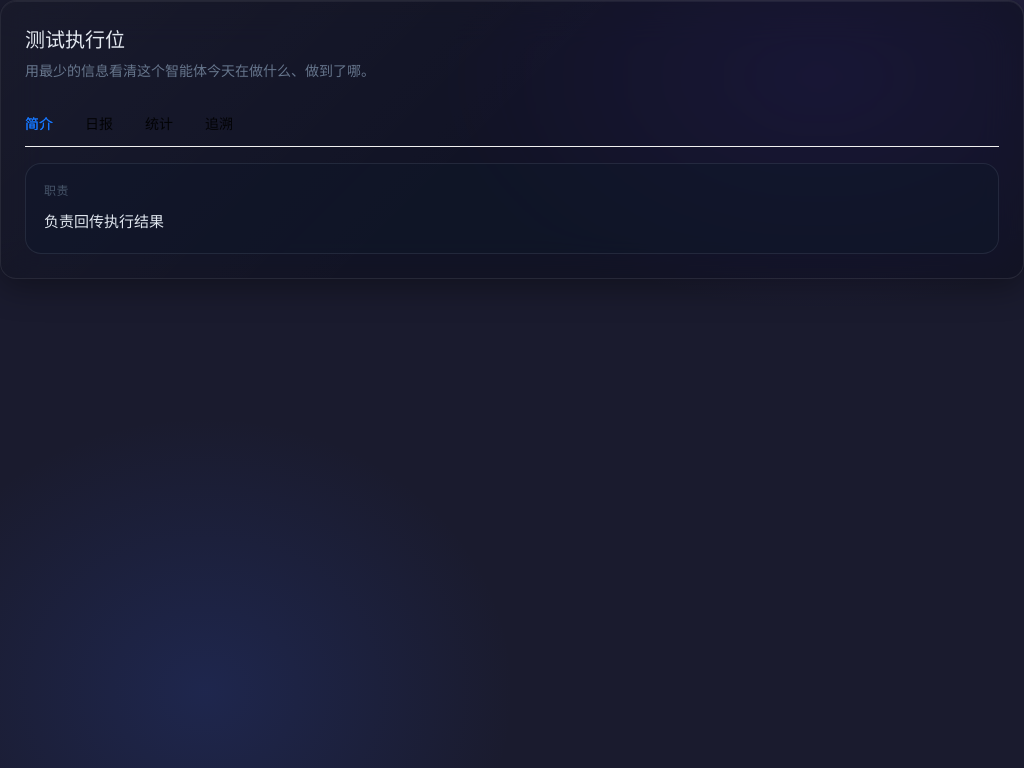
Test: AgentWorkPanel › renders trace lines inside the dedicated trace tab
The image size is (1024, 768).
Click the tab "追溯" at [219, 124], box x1=205 y1=113 x2=233 y2=135
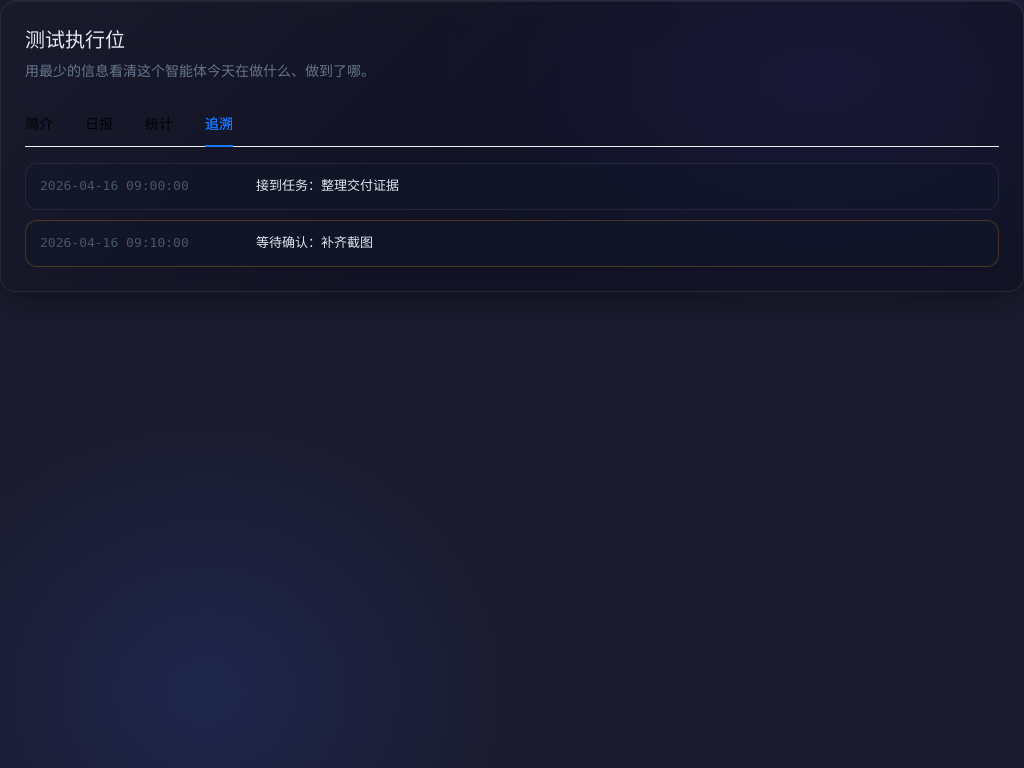
Check: the text "2026-04-16 09:00:00" is shown, box x1=40 y1=178 x2=189 y2=193
Check: the text "接到任务：整理交付证据" is shown, box x1=256 y1=178 x2=399 y2=193
Check: the text "等待确认：补齐截图" is shown, box x1=256 y1=235 x2=373 y2=250
